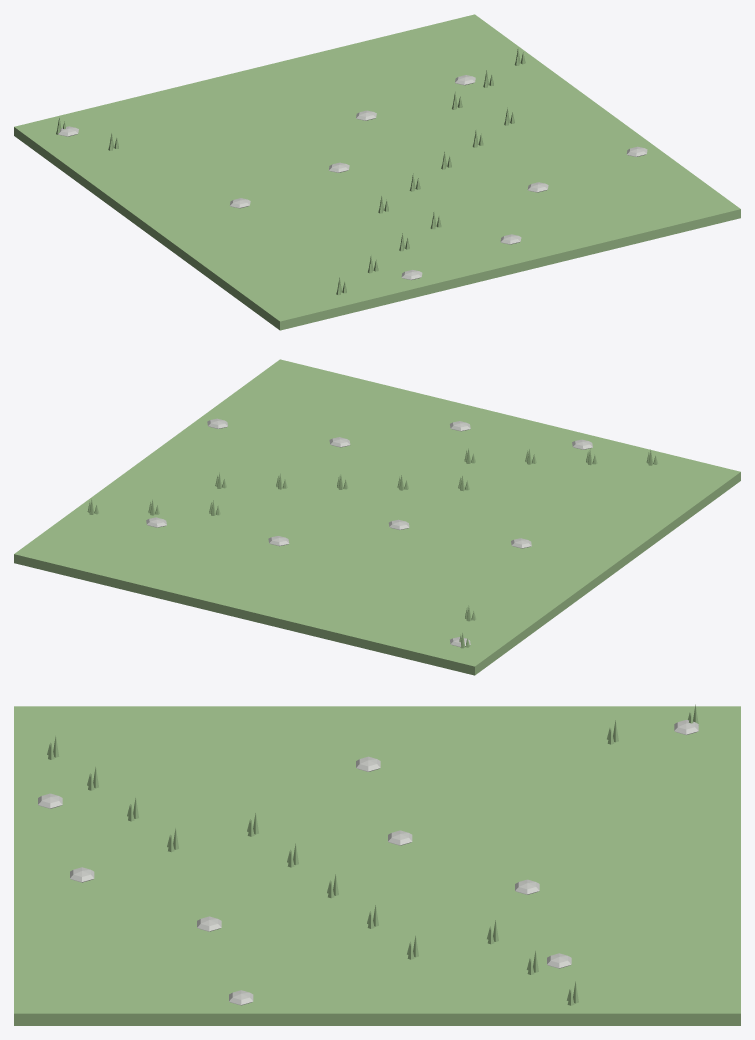
Rendered from wind-and-solar-energy-farm-site-ground-tile-cf5af2a1__34067.glb.
3 views of the same model, one above another, from view 1: azimuth 30°, elevation 25°; view 2: azimuth 150°, elevation 25°; view 3: azimuth 270°, elevation 25° (orthographic). The views are drawn at different scales.
Parts seen in each view (by area): view 1: site-ground-tile; view 2: site-ground-tile; view 3: site-ground-tile.
Part boxes in pixels (box(x1,y1,x2,y2)): site-ground-tile: box(14, 14, 740, 330); site-ground-tile: box(14, 359, 740, 675); site-ground-tile: box(14, 704, 740, 1025).
Size of the model in its own units: 8 by 0.4102 by 8.
